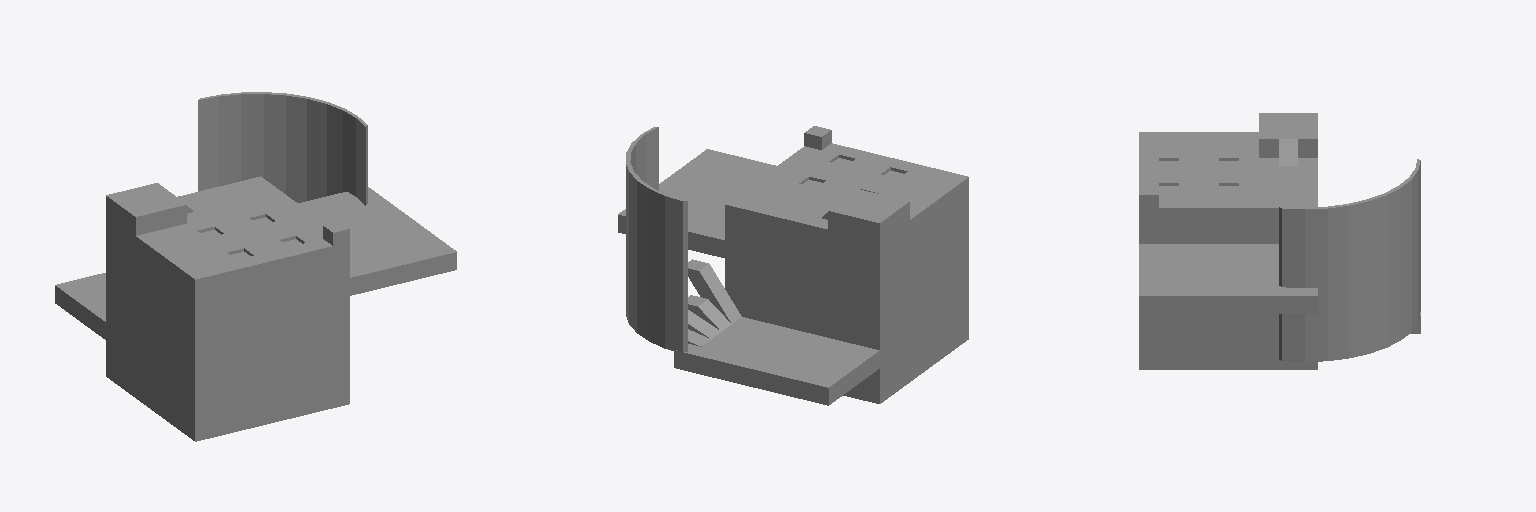
The model's file is gamme.obj.
3 views of the same model, side by side, from view 1: azimuth 30°, elevation 25°; view 2: azimuth 150°, elevation 25°; view 3: azimuth 270°, elevation 25° (orthographic).
Visible parts, largest first — view 1: Cube.001; view 2: Cube.001; view 3: Cube.001.
Part boxes in pixels (x1,y1,x2,y2): Cube.001: (55,92,456,441); Cube.001: (618,126,968,405); Cube.001: (1139,113,1420,369).
Size of the model in its own units: 25.5 by 19.06 by 23.71.